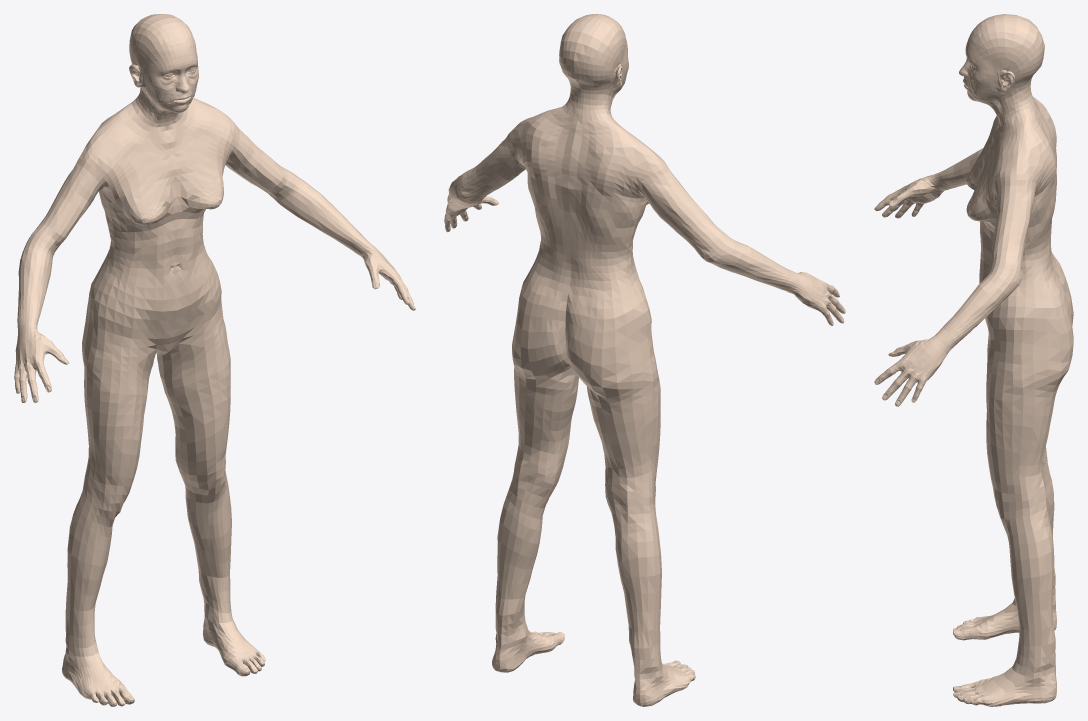
The model's file is female-older-average-high.glb.
The picture shows the model from 3 angles, left to right: view 1: azimuth 30°, elevation 25°; view 2: azimuth 150°, elevation 25°; view 3: azimuth 270°, elevation 25°; orthographic projection.
Visible parts, largest first — view 1: world; view 2: world; view 3: world.
Part boxes in pixels (<box>): world: <box>14,14,415,706</box>; world: <box>444,14,845,706</box>; world: <box>874,14,1073,706</box>.
Bounding box in the file's own units: 1.13 × 1.8 × 0.5006.
